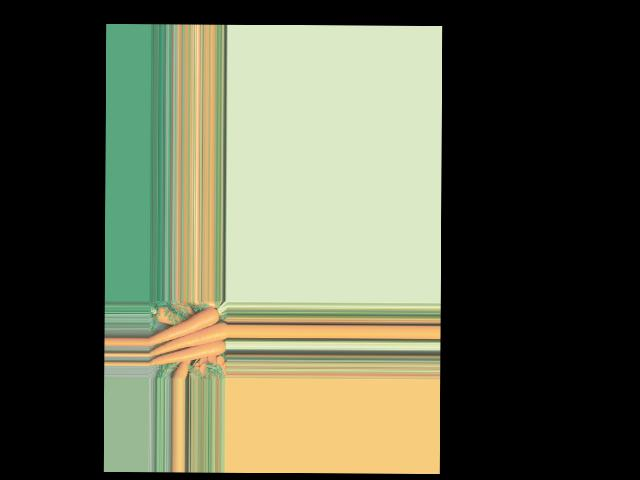carrot: (150, 305, 217, 346)
